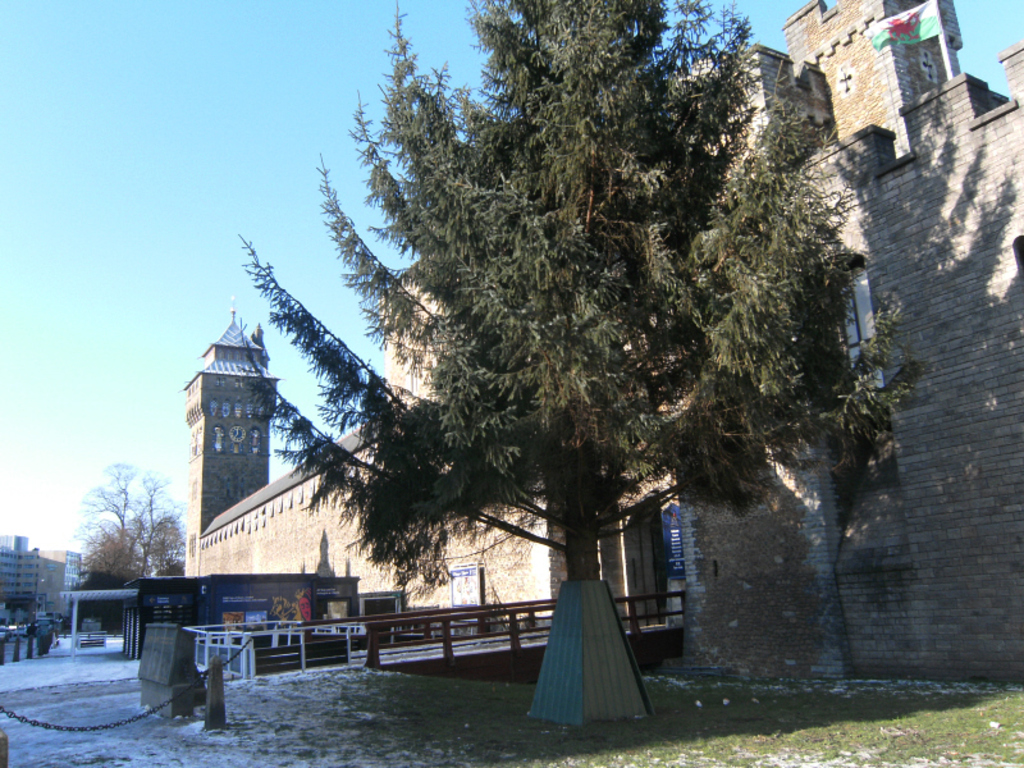tree: (233, 1, 914, 724)
